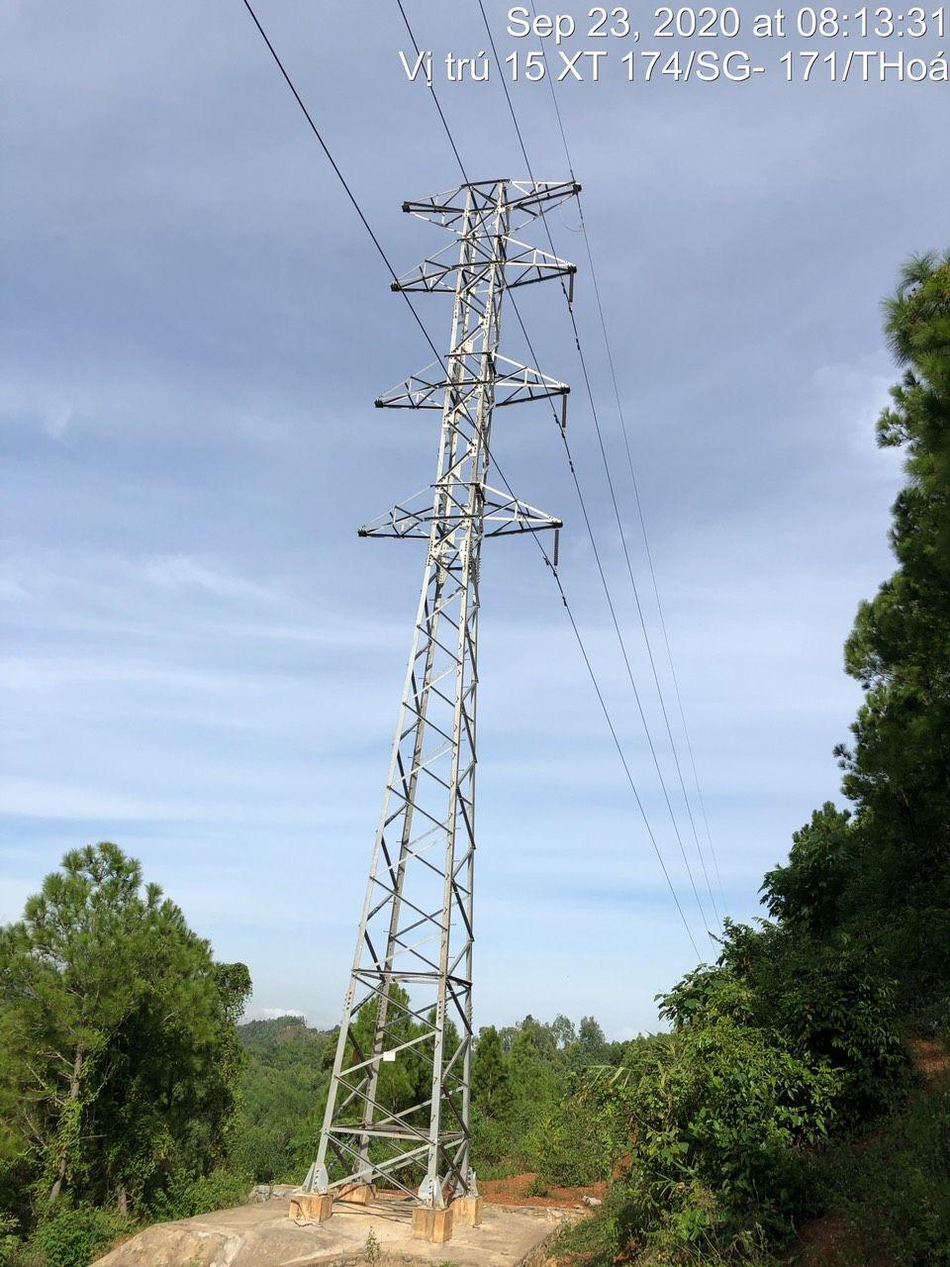tower: (290, 154, 593, 1226)
